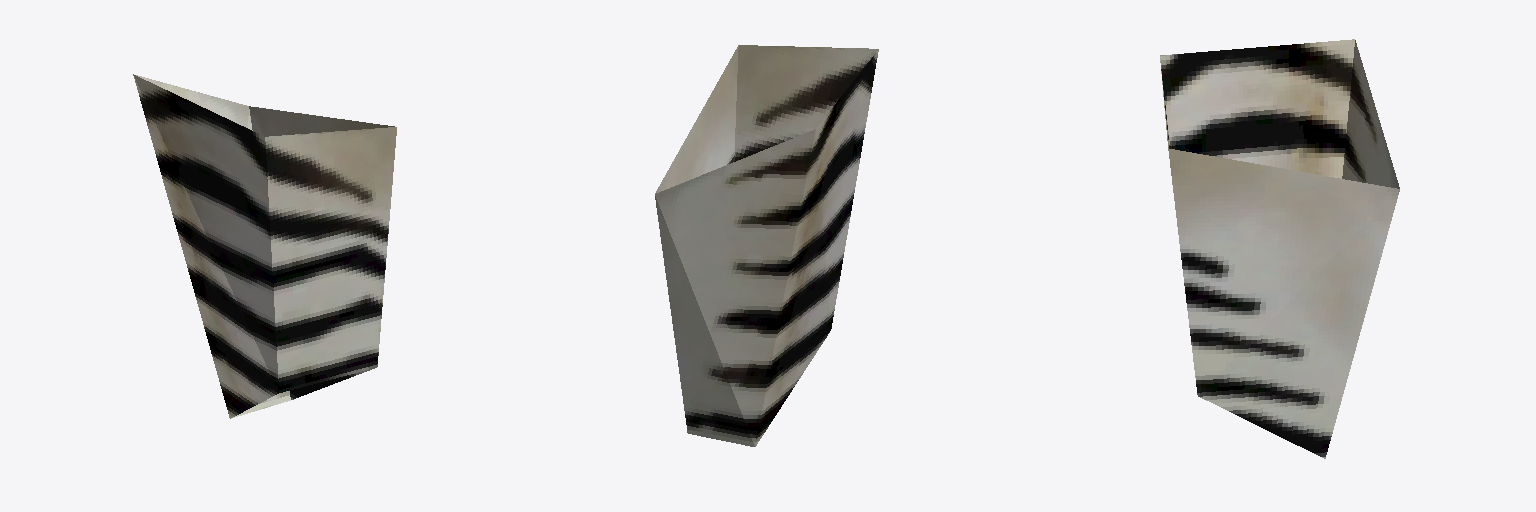
3 renders of one model, left to right at view 1: azimuth 30°, elevation 25°; view 2: azimuth 150°, elevation 25°; view 3: azimuth 270°, elevation 25°, orthographic.
Parts seen in each view (by area): view 1: ZFRU; view 2: ZFRU; view 3: ZFRU.
Part boxes in pixels (bbox=[...]): ZFRU: bbox=[133, 74, 396, 418]; ZFRU: bbox=[655, 45, 878, 446]; ZFRU: bbox=[1160, 39, 1399, 458].
Bounding box in the file's own units: 0.2037 × 0.4008 × 0.2486.
Materials: 1 (1 with a texture image).